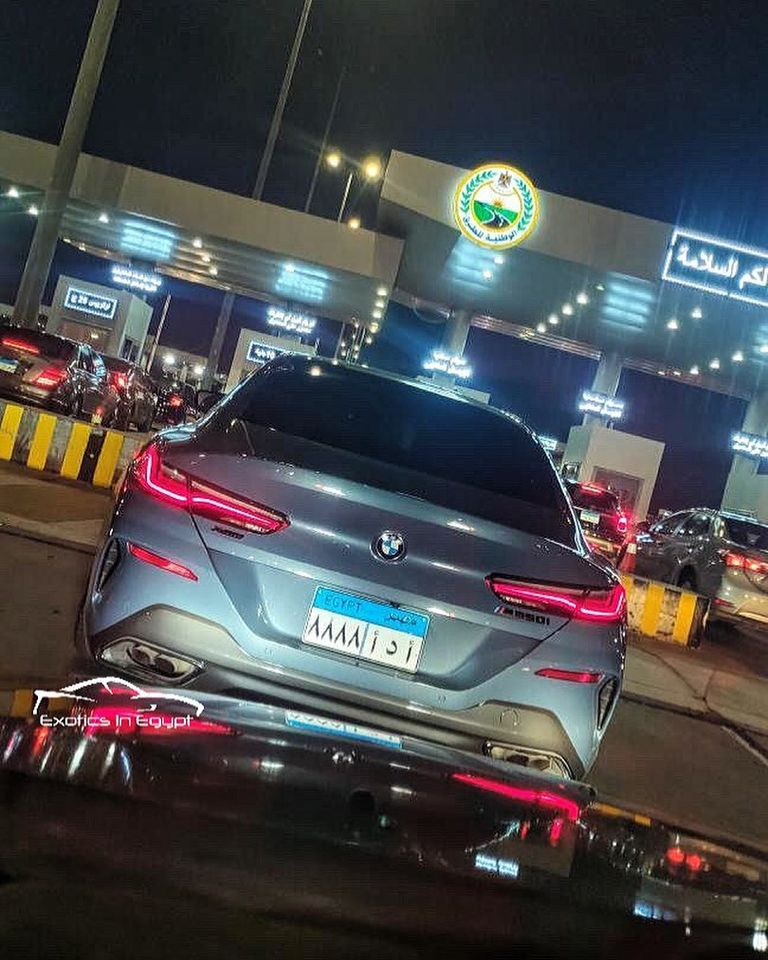carpl: (294, 598, 432, 670)
